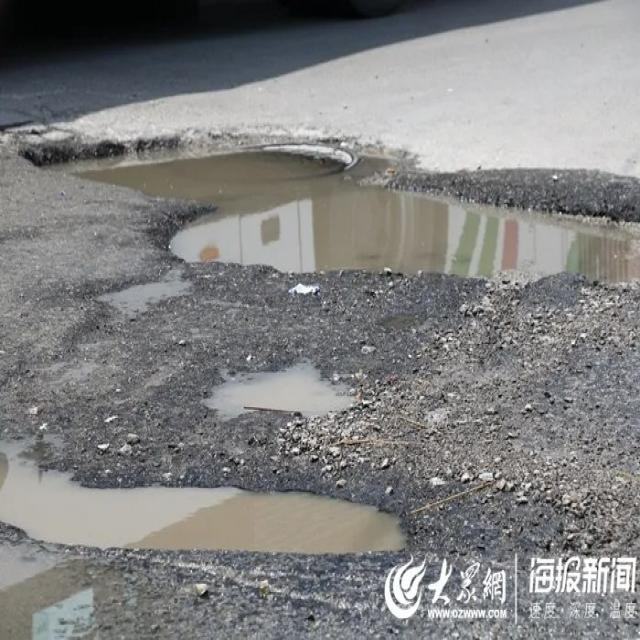Pothole: (18, 111, 631, 317), (2, 408, 419, 590), (191, 347, 365, 423)
